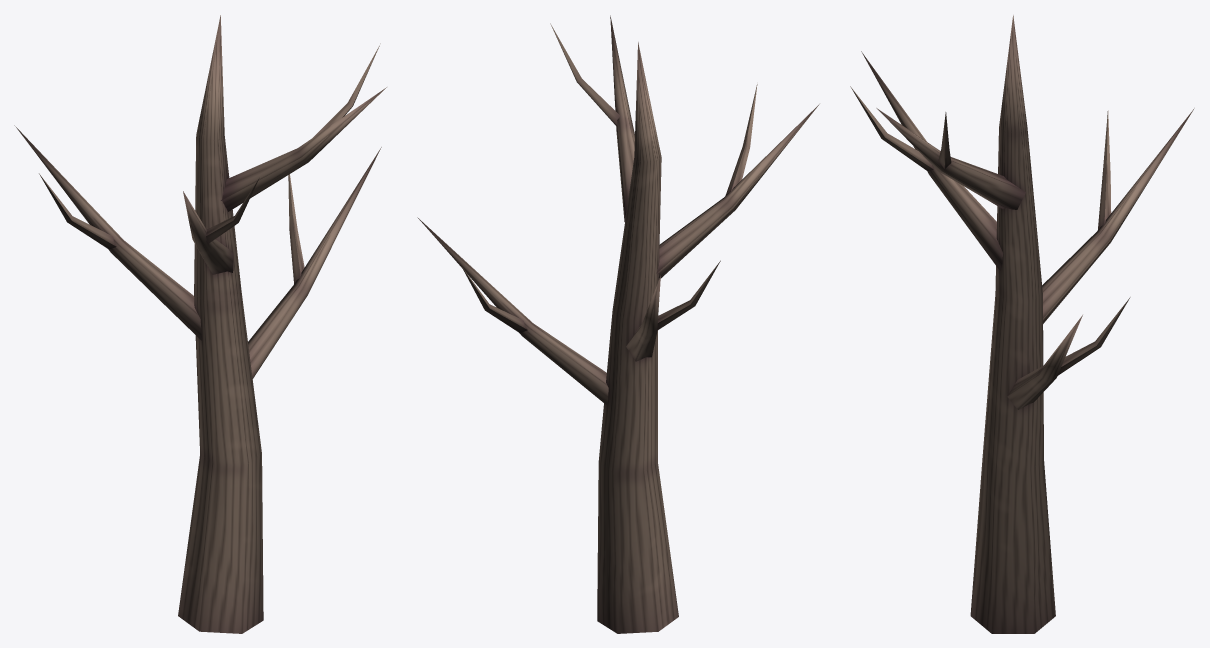
The model's file is bare_tree.obj.
The picture shows the model from 3 angles, left to right: view 1: azimuth 30°, elevation 25°; view 2: azimuth 150°, elevation 25°; view 3: azimuth 270°, elevation 25°; orthographic projection. The views are drawn at different scales.
Parts seen in each view (by area): view 1: BareTree; view 2: BareTree; view 3: BareTree.
Boxes of the visible parts, x1,y1,x2,y2 form: BareTree: (14,15,386,633); BareTree: (417,15,819,633); BareTree: (850,15,1194,633).
Bounding box in the file's own units: 3.22 × 5.62 × 2.92.
1 material, 1 textured.
